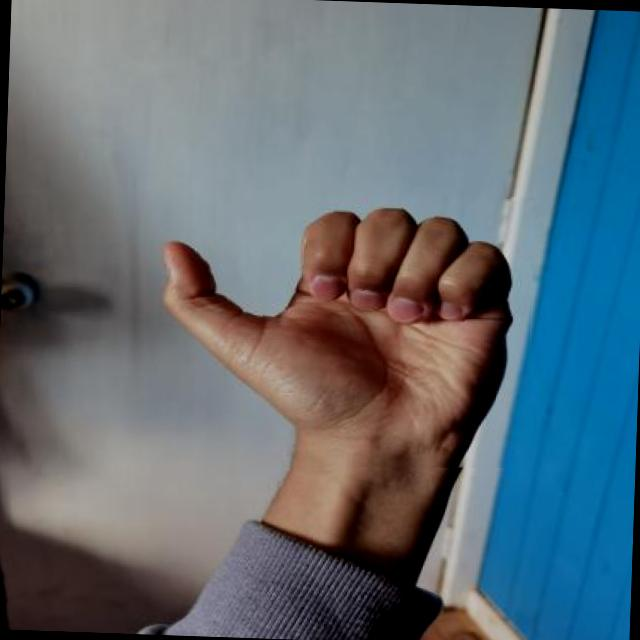E: (138, 184, 534, 479)
